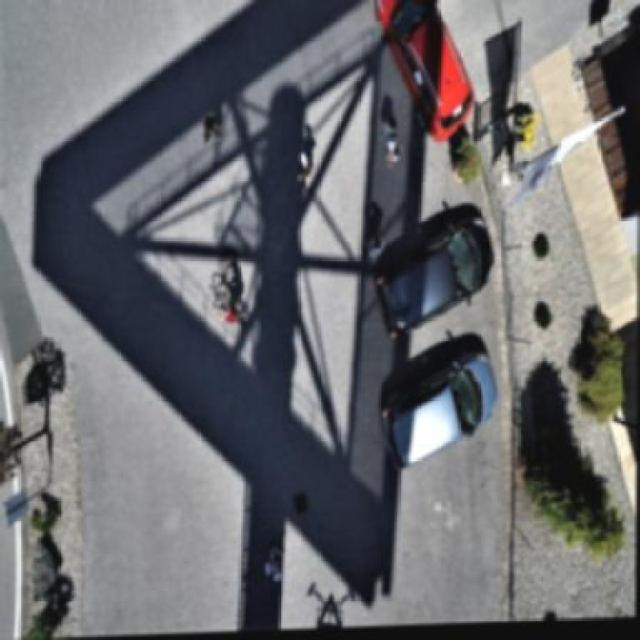Person: (257, 546, 291, 591), (193, 105, 225, 152), (291, 143, 318, 197), (358, 227, 384, 271), (372, 114, 400, 143), (381, 135, 405, 168)
